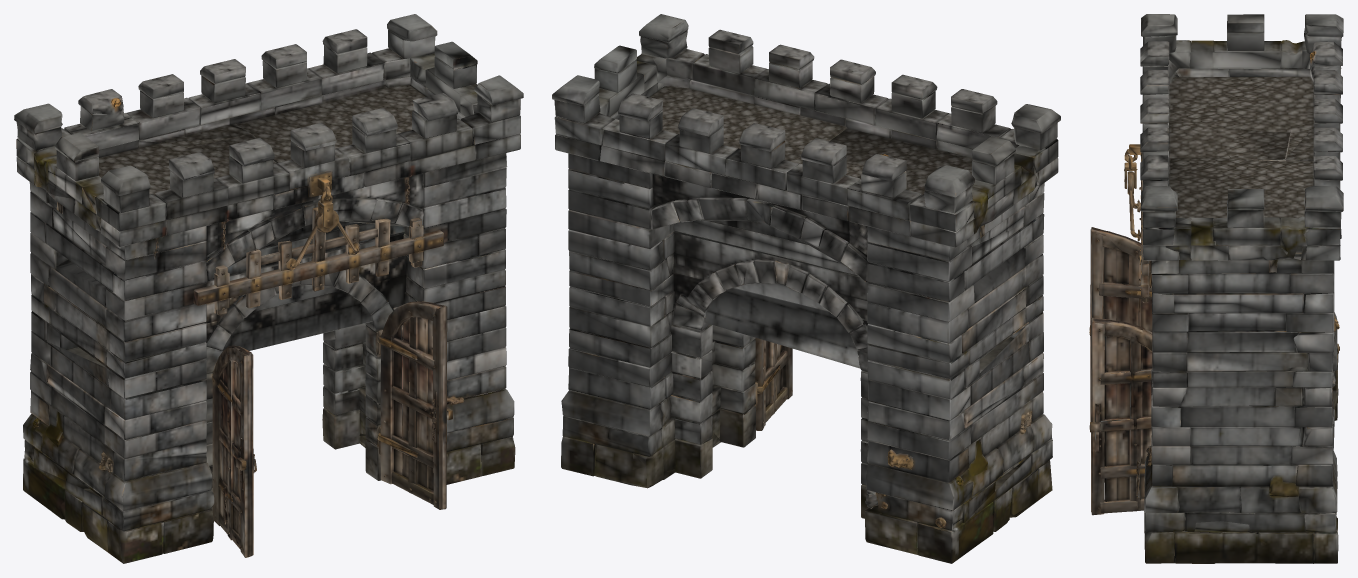
The model's file is cas-gate.fbx.
The picture shows the model from 3 angles, left to right: view 1: azimuth 30°, elevation 25°; view 2: azimuth 150°, elevation 25°; view 3: azimuth 270°, elevation 25°; orthographic projection. The views are drawn at different scales.
Parts seen in each view (by area): view 1: Mesh_0; view 2: Mesh_0; view 3: Mesh_0.
Part boxes in pixels (<box>): Mesh_0: <box>14,14,523,563</box>; Mesh_0: <box>552,14,1060,563</box>; Mesh_0: <box>1089,14,1343,563</box>.
Size of the model in its own units: 95.61 by 85.79 by 53.81.
Materials: 1 (1 with a texture image).
